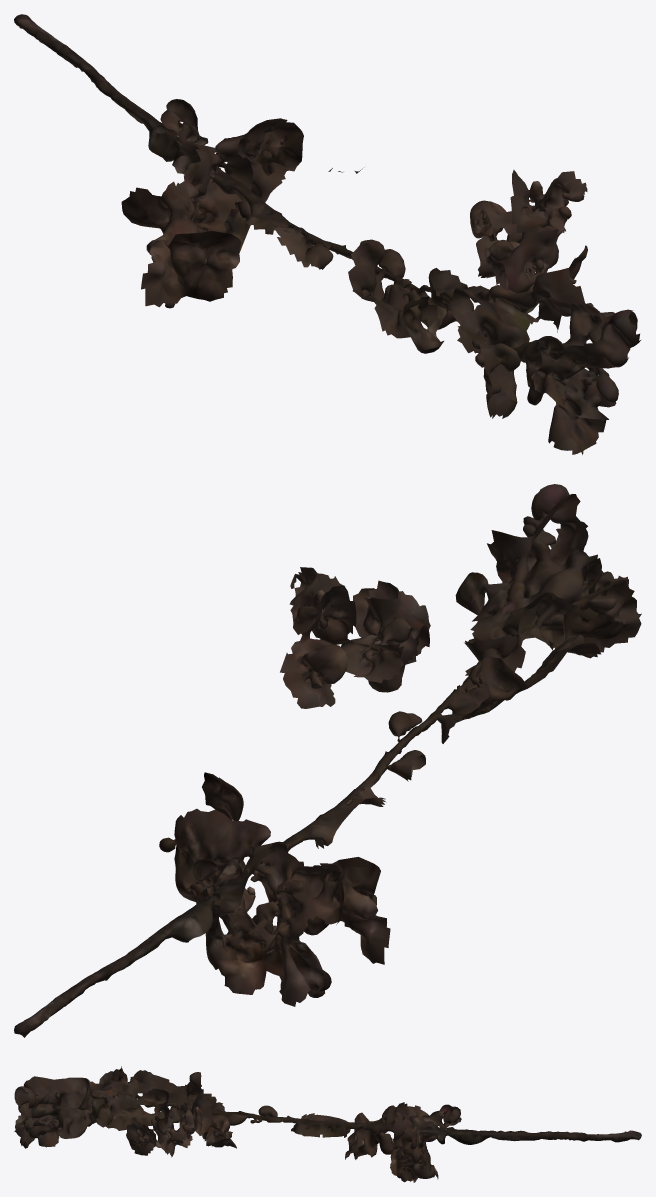
File: tree_mesh.dae
The picture shows the model from 3 angles, top to bottom: view 1: azimuth 30°, elevation 25°; view 2: azimuth 150°, elevation 25°; view 3: azimuth 270°, elevation 25°; orthographic projection. The views are drawn at different scales.
Visible parts, largest first — view 1: node0; view 2: node0; view 3: node0.
Boxes of the visible parts, x1,y1,x2,y2 form: node0: [14, 14, 640, 454]; node0: [14, 484, 641, 1037]; node0: [14, 1066, 641, 1182].
Bounding box in the file's own units: 6.68 × 5.47 × 24.77.
